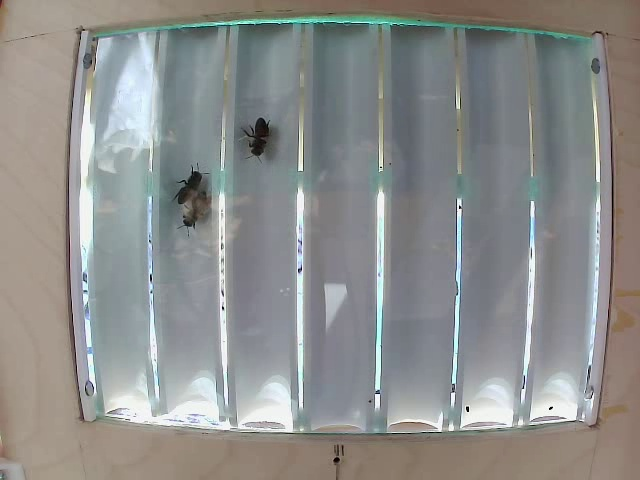bee: (240, 114, 281, 174), (170, 169, 202, 208), (183, 197, 207, 232)
